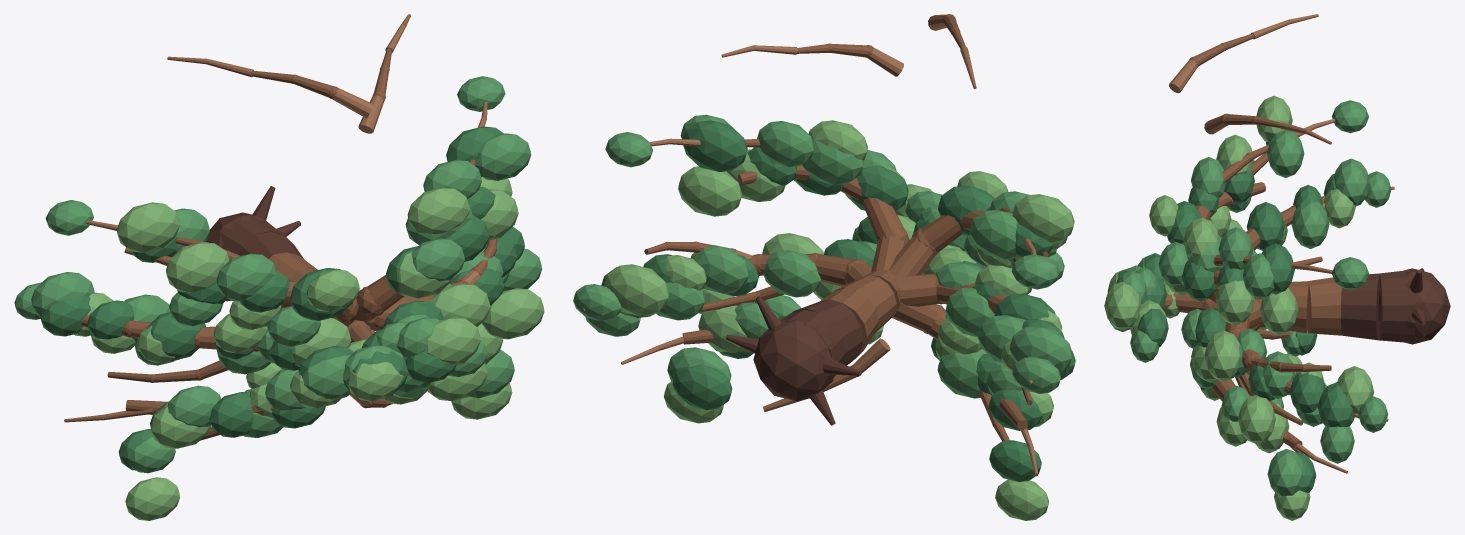
The model's file is century-tree.glb.
3 renders of one model, left to right at view 1: azimuth 30°, elevation 25°; view 2: azimuth 150°, elevation 25°; view 3: azimuth 270°, elevation 25°, orthographic. The views are drawn at different scales.
Visible parts, largest first — view 1: world; view 2: world; view 3: world.
Part boxes in pixels (x1,y1,x2,y2): world: (14,14,544,520); world: (573,14,1075,520); world: (1104,14,1450,520).
Bounding box in the file's own units: 15.8 × 13.41 × 10.65.
